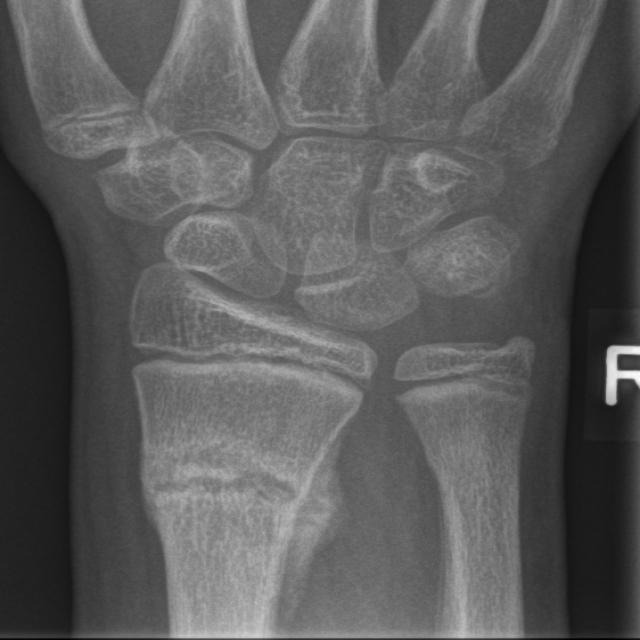radius fracture: (129, 444, 355, 584)
